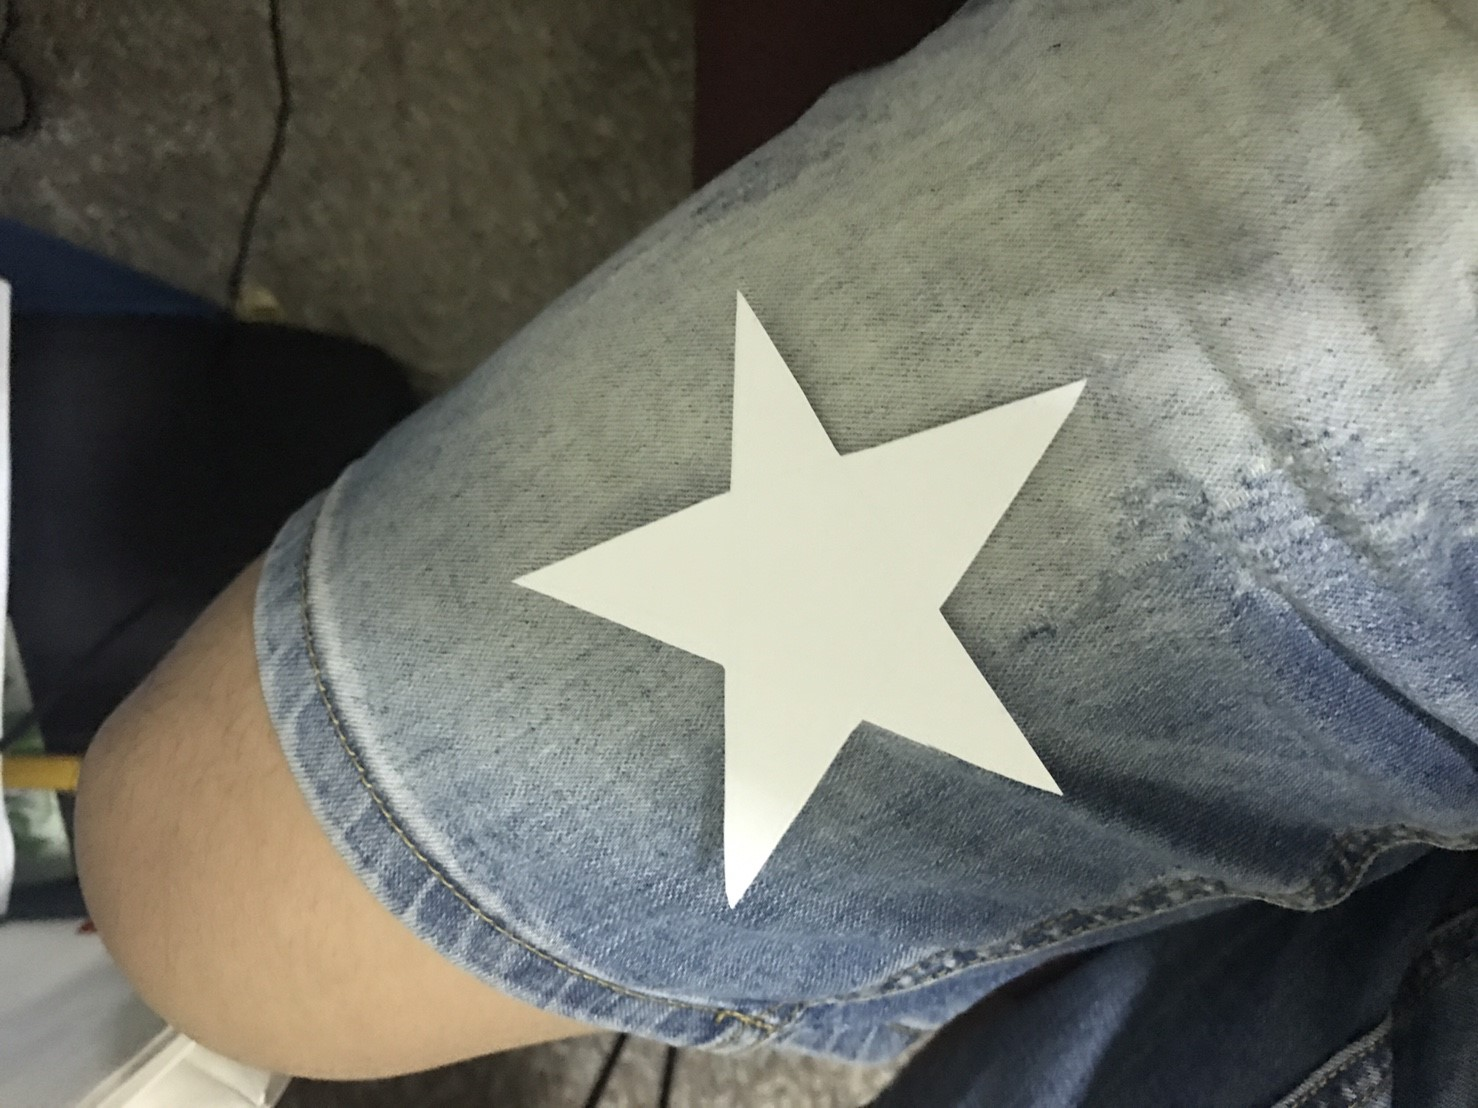star: (516, 285, 1106, 923)
